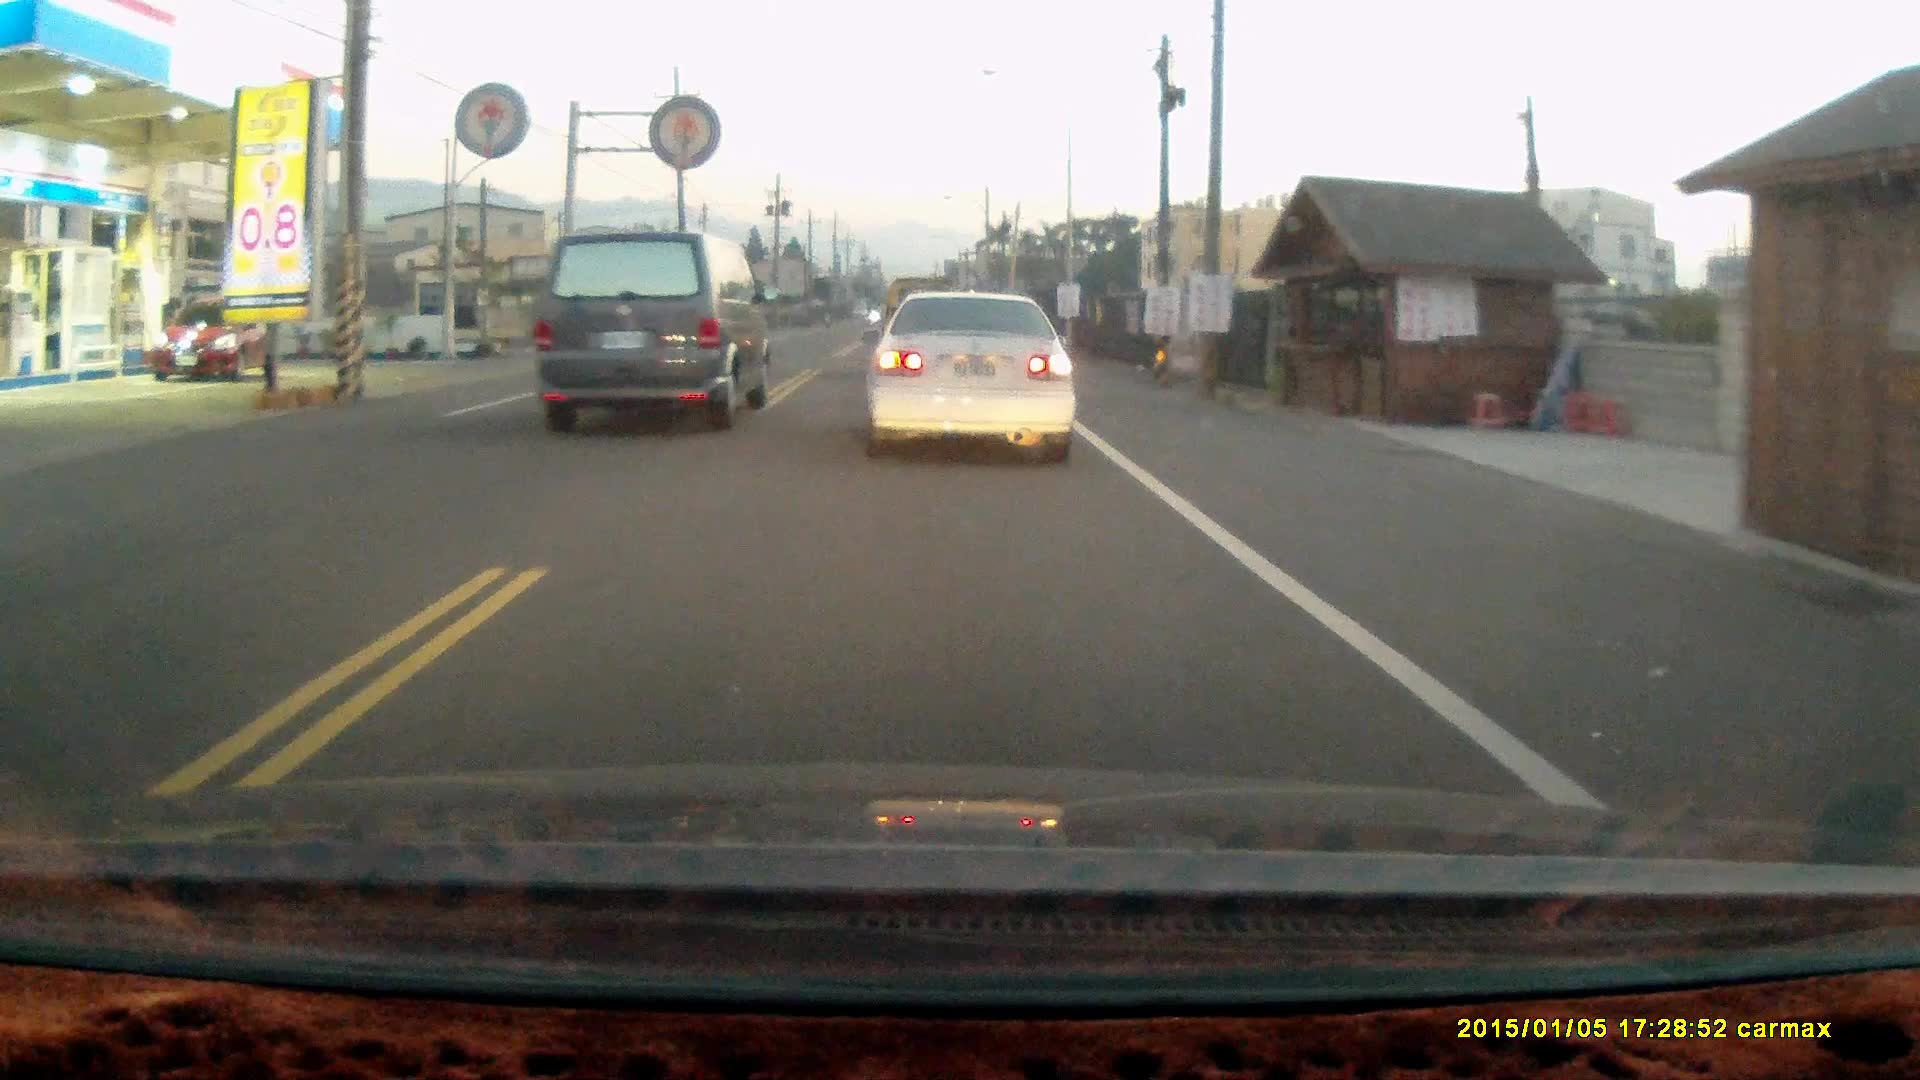vehicle: (534, 231, 769, 429), (862, 284, 1089, 464), (149, 293, 280, 385)
